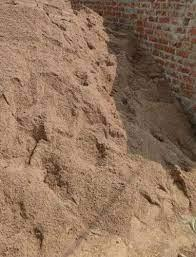sand: (21, 187, 47, 211), (20, 53, 45, 77), (103, 198, 125, 223), (142, 233, 165, 251), (61, 144, 76, 162)
